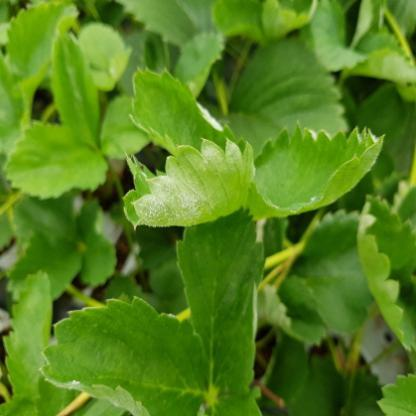Strawberry_Powdery_Mildew_Leaf: (38, 296, 212, 416), (248, 120, 388, 222), (122, 137, 256, 231), (129, 67, 238, 156)
